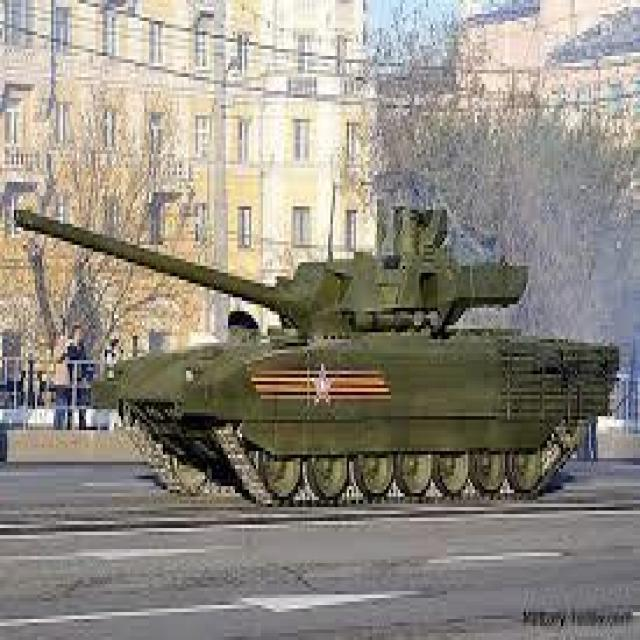Tanks: (6, 18, 571, 598)
